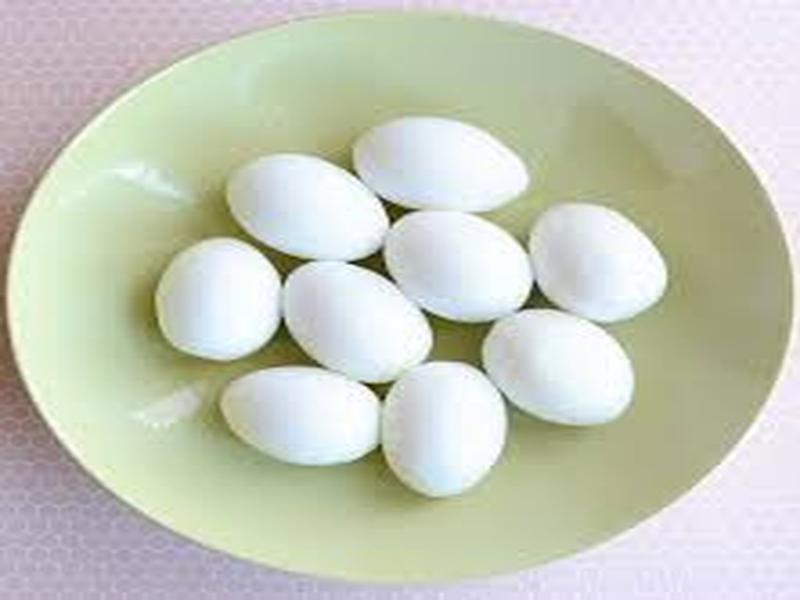egg: (141, 111, 731, 511)
